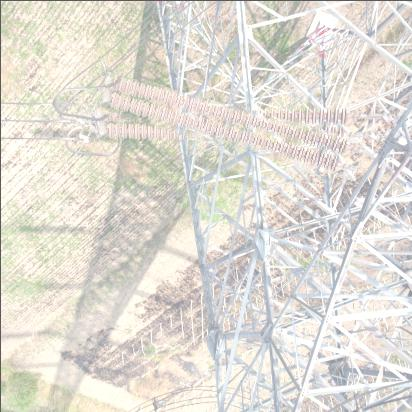insulator: (98, 89, 366, 164)
